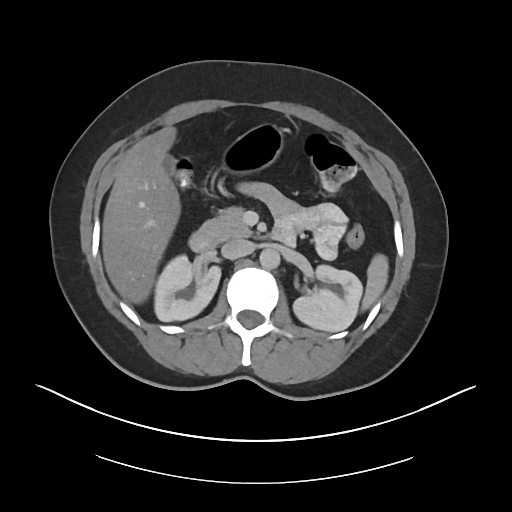Lesion: (342, 274, 354, 288)
